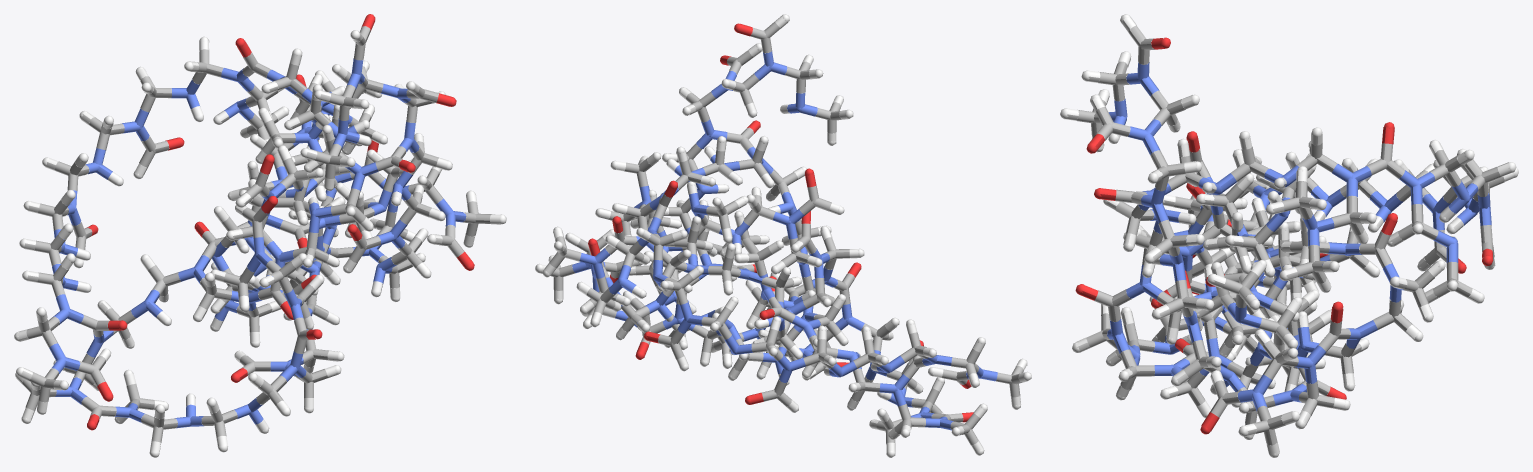
Rendered from Duroplast_Stick_black.glb.
The picture shows the model from 3 angles, left to right: view 1: azimuth 30°, elevation 25°; view 2: azimuth 150°, elevation 25°; view 3: azimuth 270°, elevation 25°; orthographic projection. The views are drawn at different scales.
Size of the model in its own units: 1.14 by 0.8491 by 0.8026.
